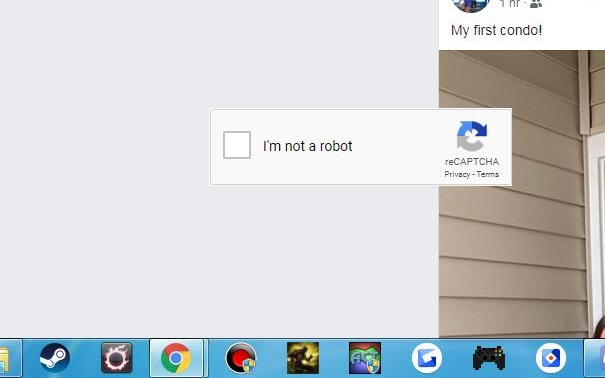captcha: (223, 131, 353, 159)
